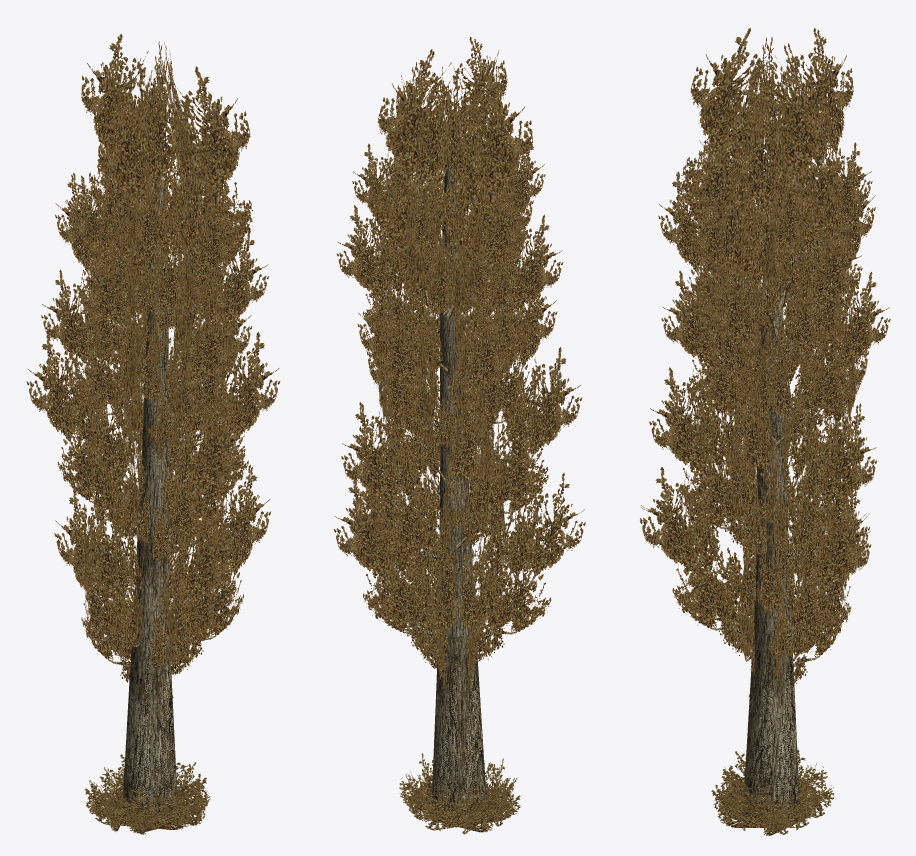
The model's file is w_cd_tree02.glb.
3 renders of one model, left to right at view 1: azimuth 30°, elevation 25°; view 2: azimuth 150°, elevation 25°; view 3: azimuth 270°, elevation 25°, orthographic.
Parts seen in each view (by area): view 1: w_cd_tree02; view 2: w_cd_tree02; view 3: w_cd_tree02.
Boxes of the visible parts, x1,y1,x2,y2 form: w_cd_tree02: [26, 33, 280, 834]; w_cd_tree02: [333, 37, 585, 834]; w_cd_tree02: [640, 27, 890, 836].
Size of the model in its own units: 9.29 by 29.5 by 9.22.
3 materials, 3 textured.
